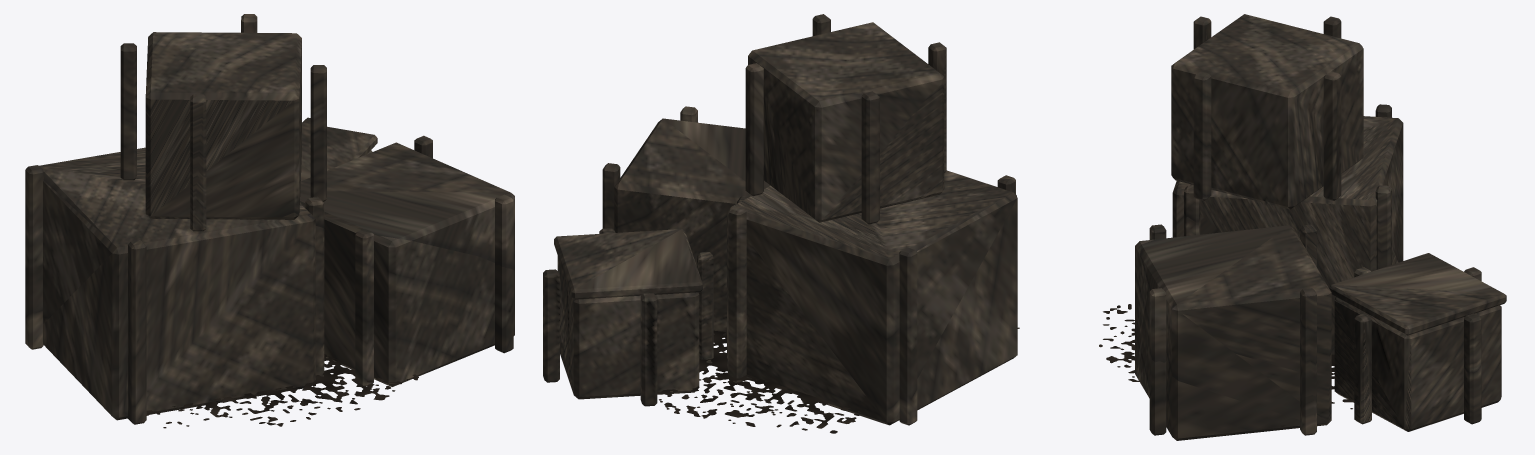
File: crates.glb
3 renders of one model, left to right at view 1: azimuth 30°, elevation 25°; view 2: azimuth 150°, elevation 25°; view 3: azimuth 270°, elevation 25°, orthographic. The views are drawn at different scales.
Visible parts, largest first — view 1: crates; view 2: crates; view 3: crates.
Part boxes in pixels (x1,y1,x2,y2): crates: (25,14,514,428); crates: (543,14,1019,433); crates: (1099,14,1506,440).
Bounding box in the file's own units: 1.26 × 0.897 × 1.33.
Materials: 2 (2 with a texture image).
